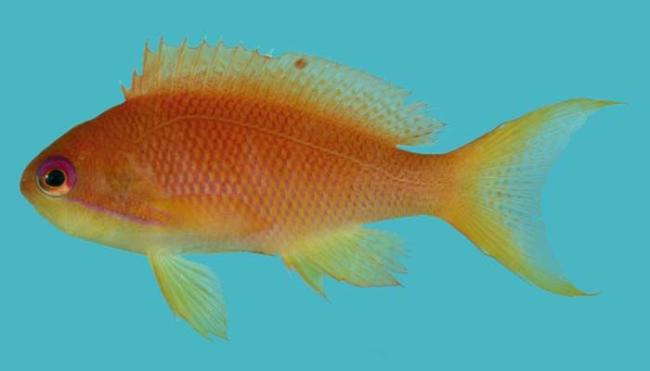fish: (19, 33, 630, 344)
